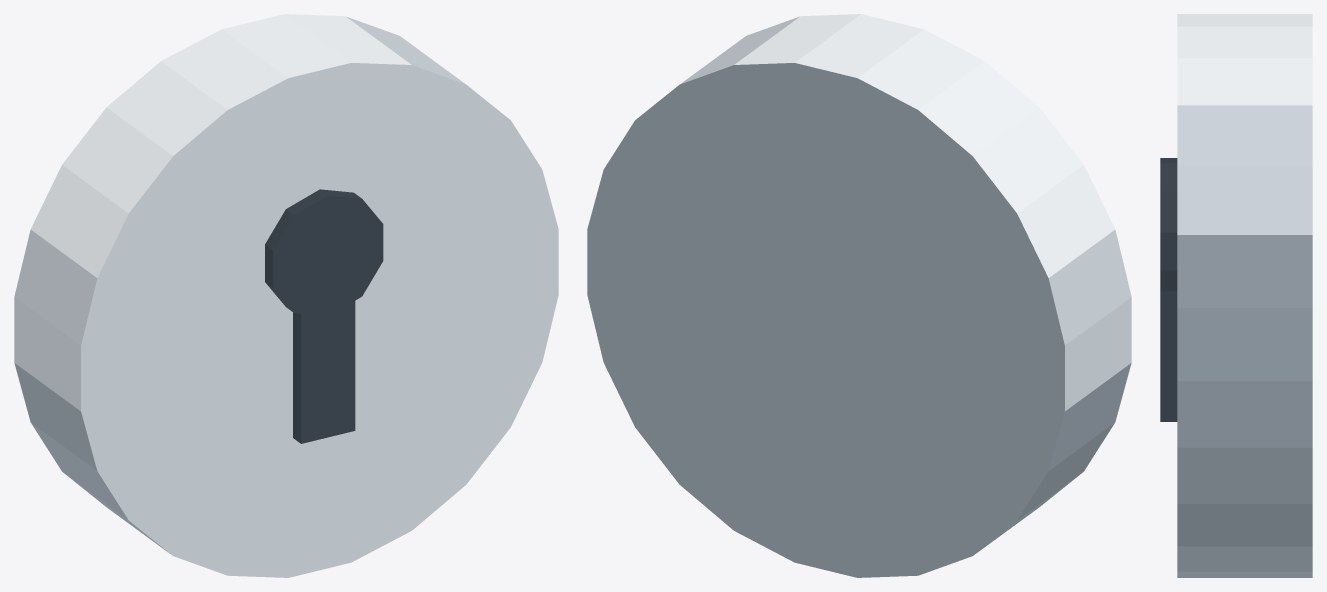
The model's file is LockWall_Emblem.gltf.
3 views of the same model, side by side, from view 1: azimuth 30°, elevation 25°; view 2: azimuth 150°, elevation 25°; view 3: azimuth 270°, elevation 25° (orthographic).
Parts seen in each view (by area): view 1: LockWall_Emblem_baked; view 2: LockWall_Emblem_baked; view 3: LockWall_Emblem_baked.
Part boxes in pixels (left/top/right/bottom): LockWall_Emblem_baked: left=14, top=14, right=558, bottom=577; LockWall_Emblem_baked: left=587, top=14, right=1131, bottom=577; LockWall_Emblem_baked: left=1160, top=14, right=1312, bottom=577.
Size of the model in its own units: 0.4957 by 0.4957 by 0.135.
